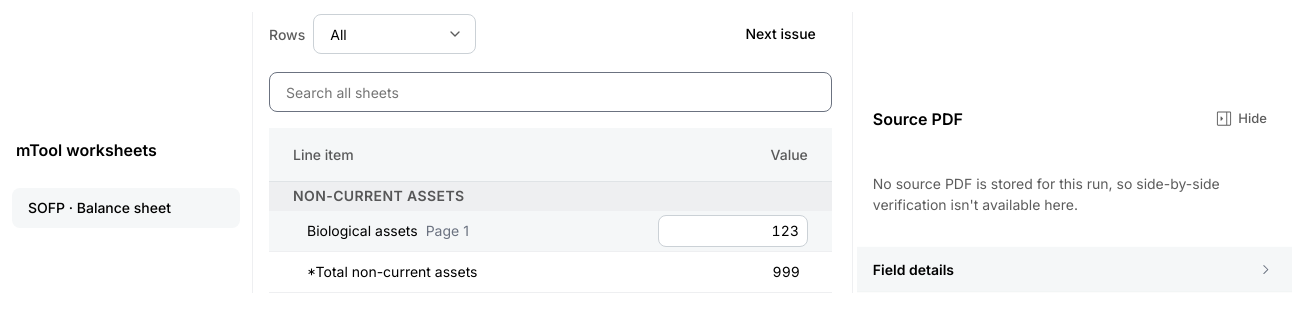
Test: ConceptsPage › editing a leaf value PATCHes the facts endpoint and applies recompute
Type a new value and blur to flush immediately.
Step 1. Replace the text in the field with test id "value-input-leaf-1" with "456" → (733, 231), box [658,215,808,247]
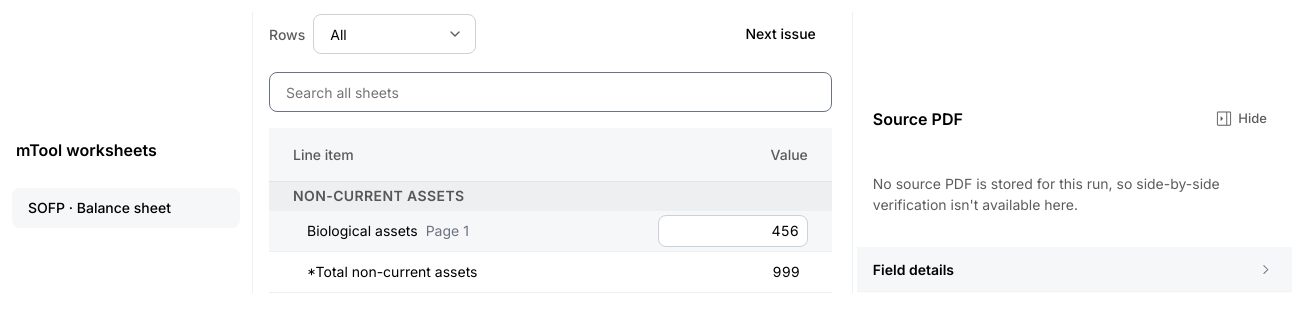
Step 2. Leave the field with test id "value-input-leaf-1", box [658,215,808,247]
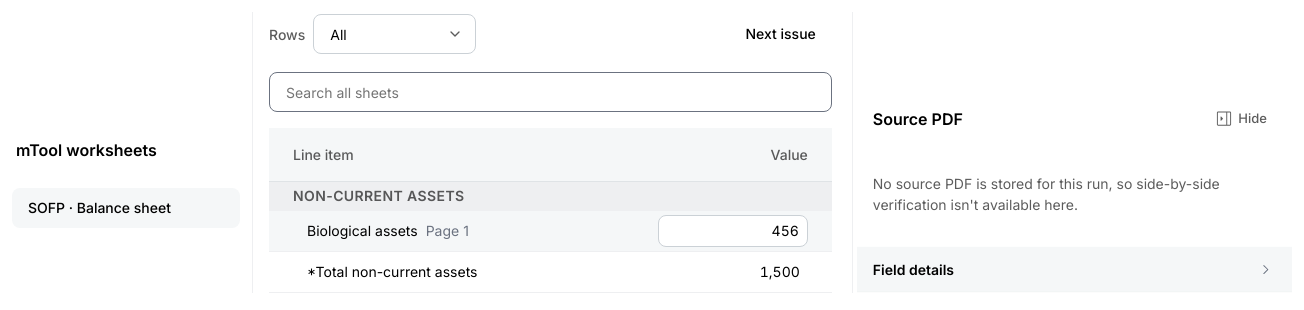
Result: the list item with test id "concept-row-comp-1" shows "1,500" at [760,263,800,280]
